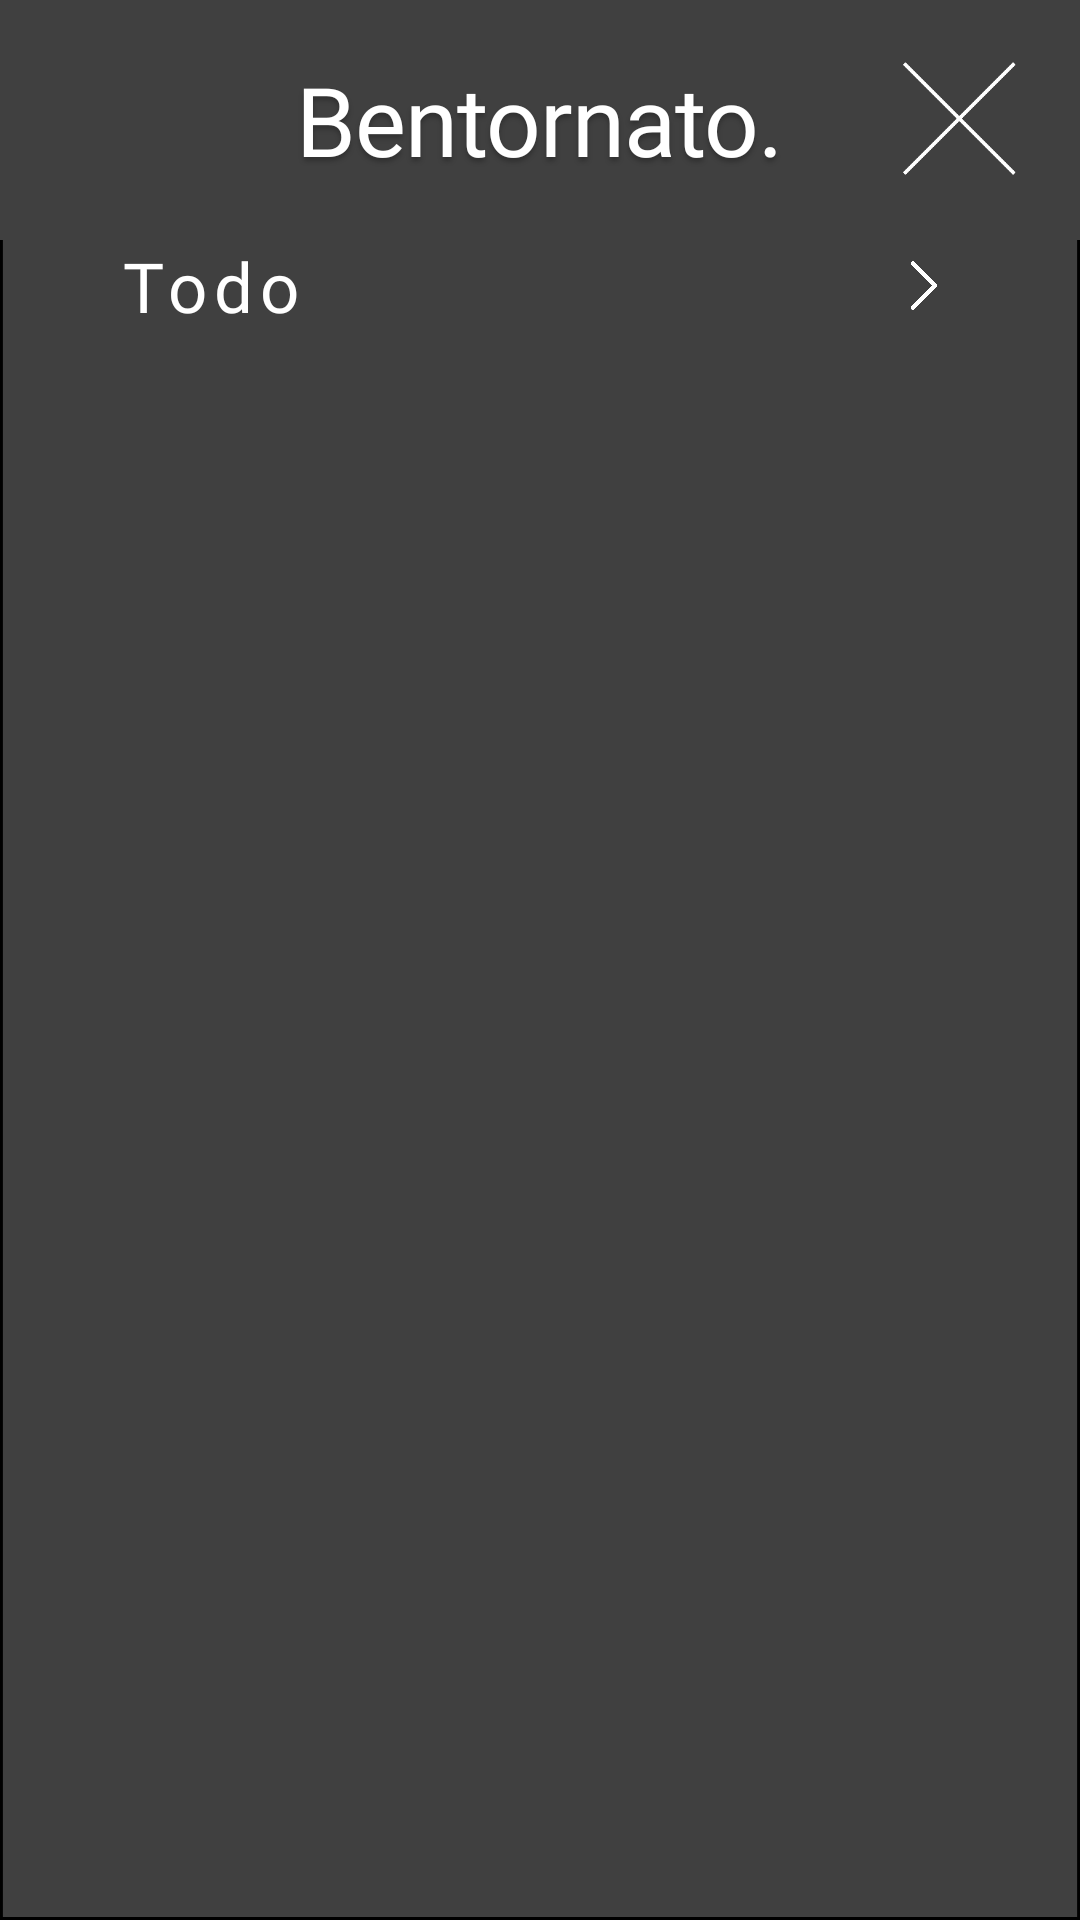

Where icons sit on this 1080px×1920px app screen, as (x1, y1, x2, y2):
arrow more: (911, 261, 937, 310)
close: (903, 62, 1016, 175)
